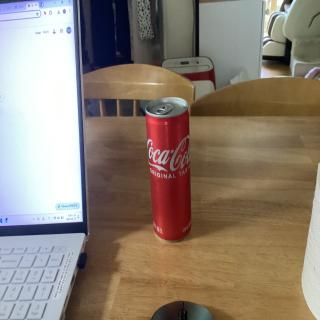cocacola: (144, 96, 196, 246)
